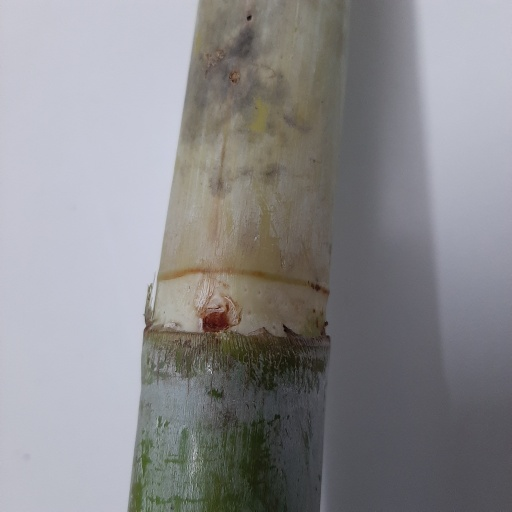Damage_Bud: (201, 297, 236, 332)
